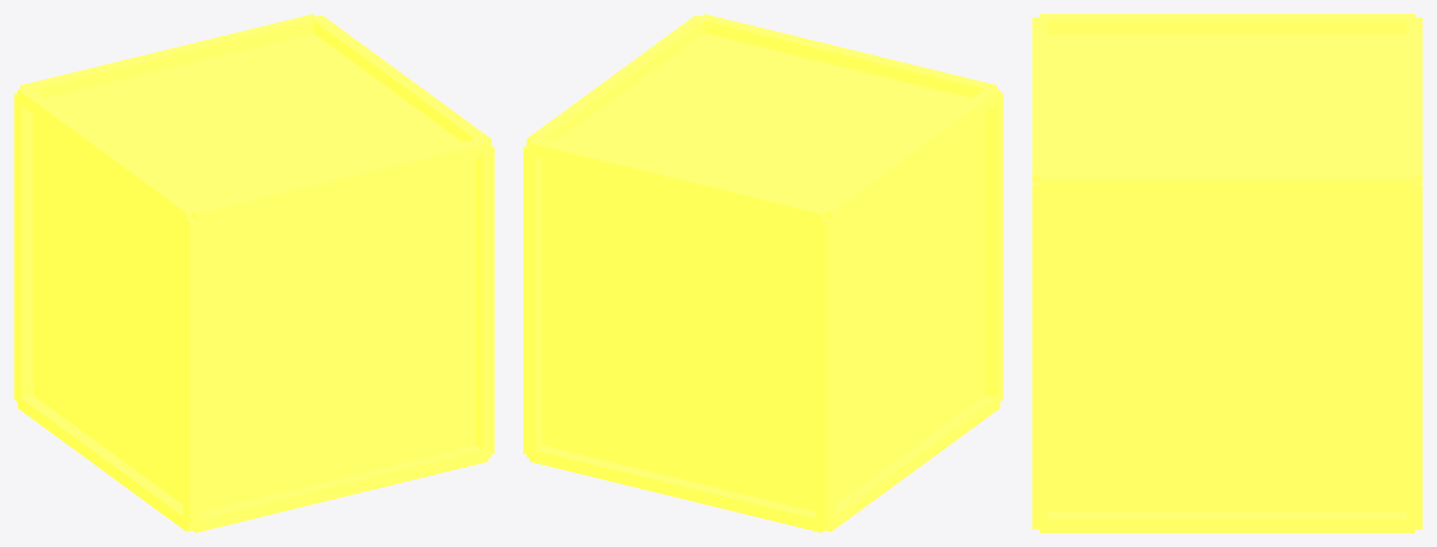
The model's file is pickup_rocket.glb.
3 renders of one model, left to right at view 1: azimuth 30°, elevation 25°; view 2: azimuth 150°, elevation 25°; view 3: azimuth 270°, elevation 25°, orthographic. The views are drawn at different scales.
Parts seen in each view (by area): view 1: holo_fill, frame; view 2: holo_fill, frame; view 3: holo_fill, frame.
Boxes of the visible parts, left/top/right/bottom form: holo_fill: left=33, top=33, right=475, bottom=511; frame: left=14, top=14, right=494, bottom=532; holo_fill: left=542, top=33, right=984, bottom=511; frame: left=523, top=14, right=1003, bottom=532; holo_fill: left=1048, top=34, right=1406, bottom=512; frame: left=1032, top=14, right=1422, bottom=532.
Bounding box in the file's own units: 1.25 × 1.25 × 1.25.
